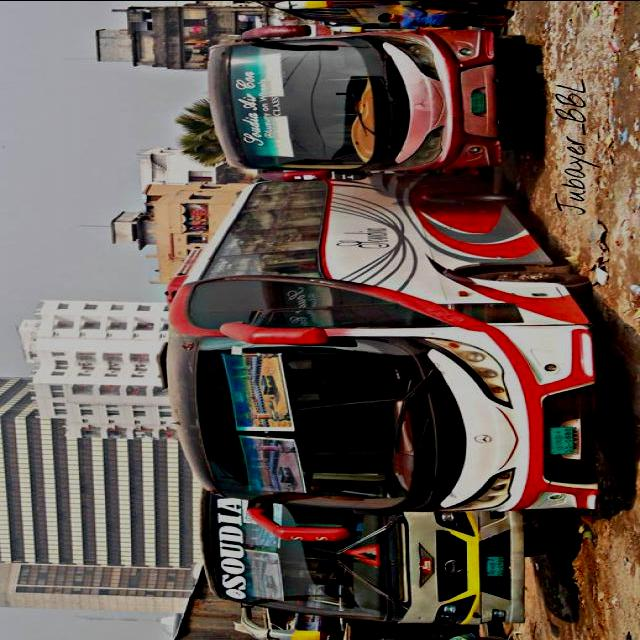bus: (149, 171, 599, 544), (207, 24, 538, 183)
